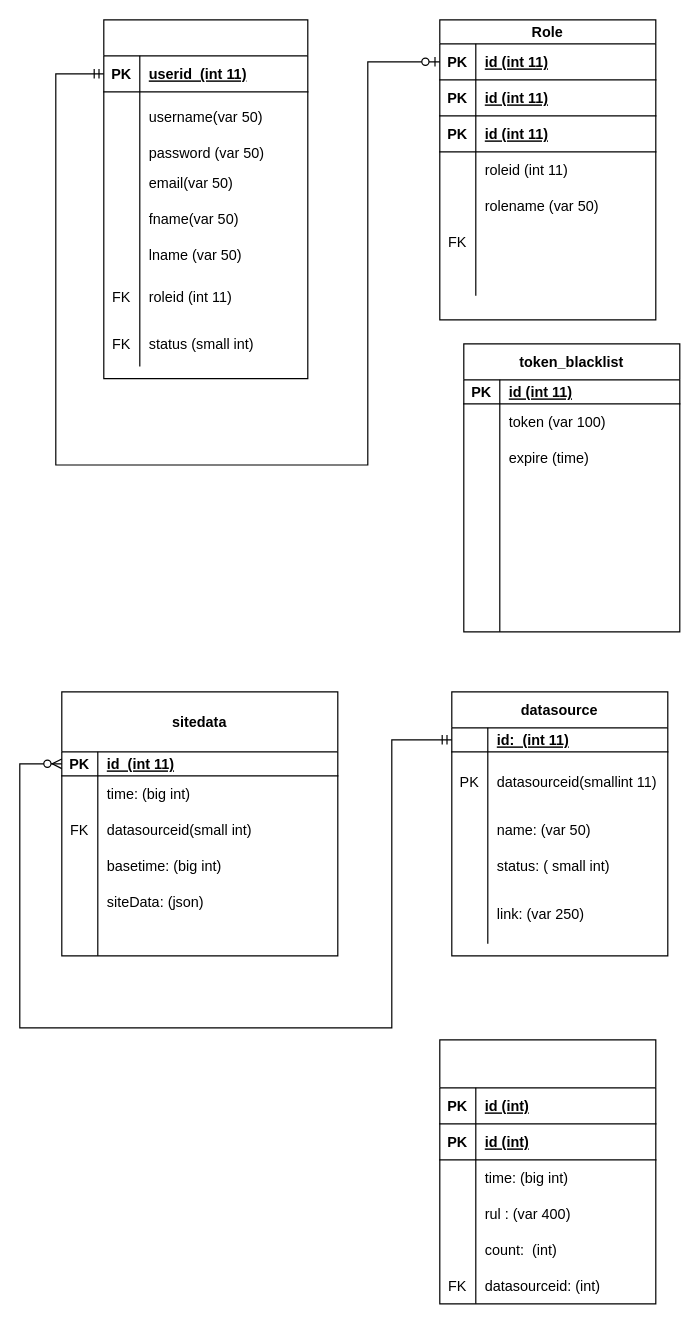
Some shapes in this 700 by 1324 pixel diagram are drawn without their labels. The shapes that lost their labels are listed below. From the top down, each one's box as (x1, y1, x2, y2) in pixels, then its label:
(103, 19, 308, 379): Users
(439, 1039, 656, 1304): diagnosis
